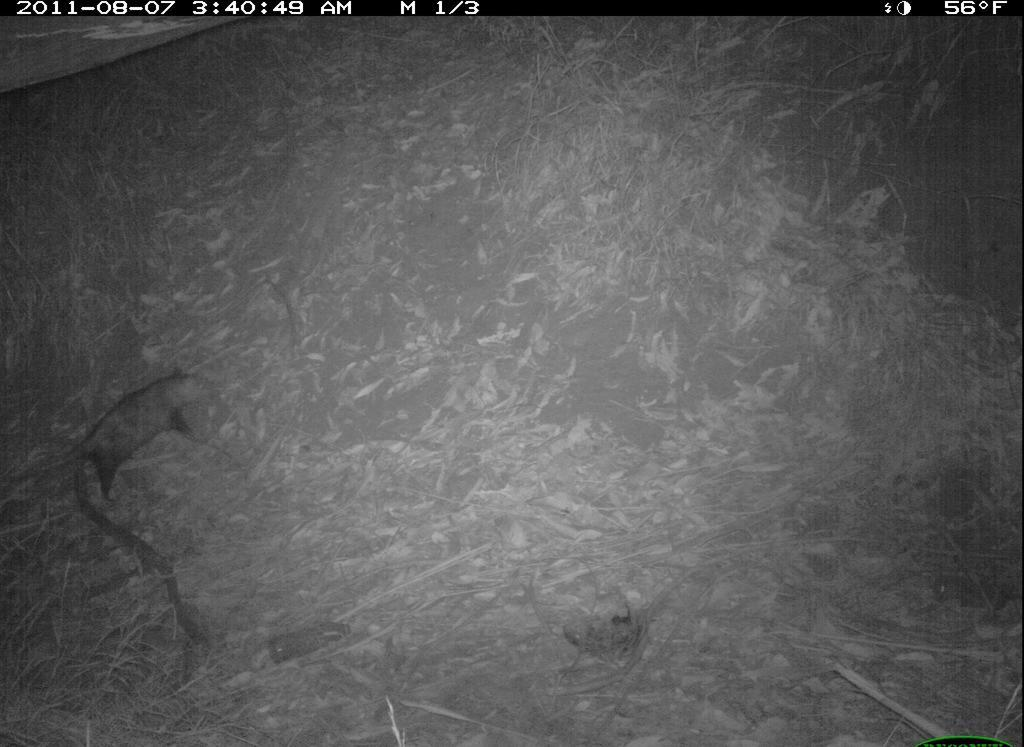opossum: (62, 336, 249, 673)
